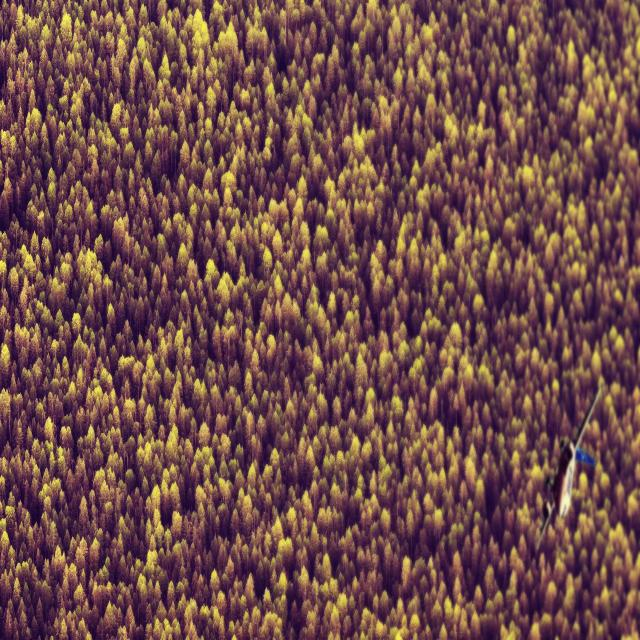airplane: (535, 385, 602, 554)
